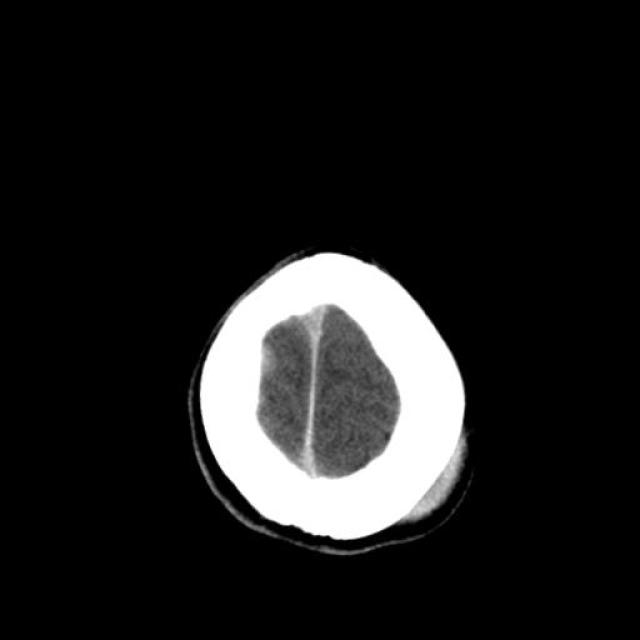Subdural: (255, 285, 355, 490)
